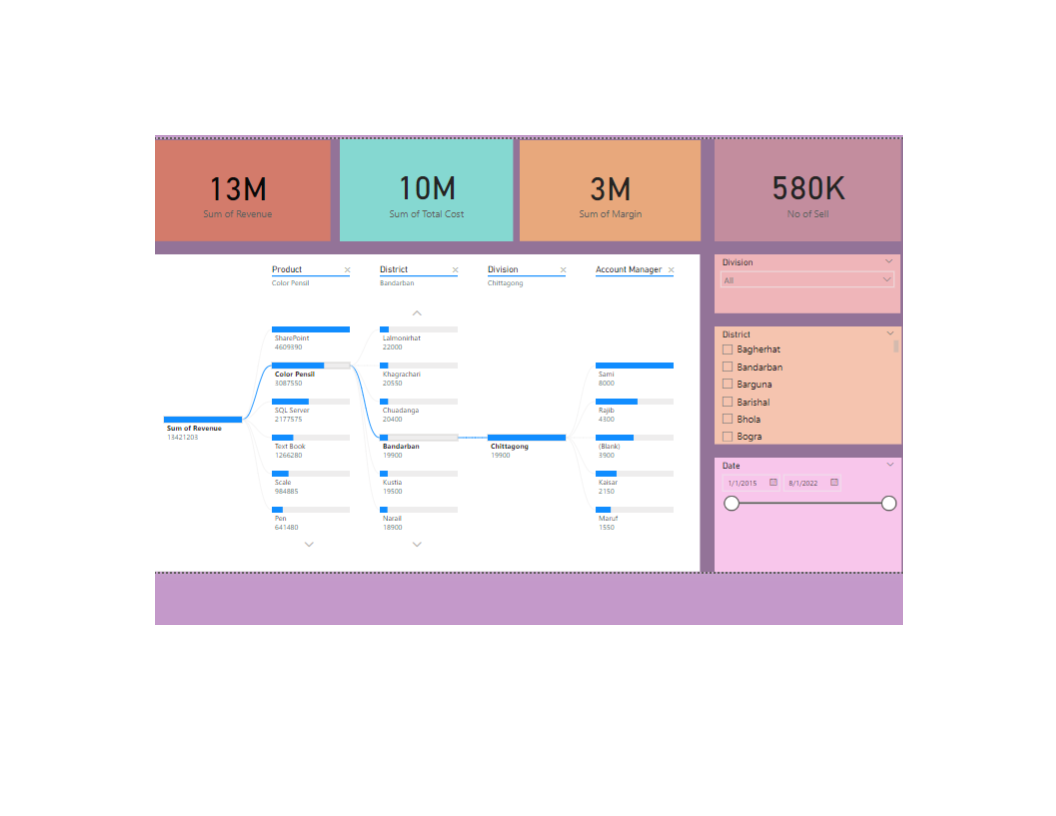

The page's visual inventory and layout, read from the dashboard file:
{"tool":"powerbi","page":{"name":"Page 2","canvas":[1280,720],"ordinal":1},"visuals":[{"type":"card","fields":{"Values":["Data.Revenue"]},"box":[3.4,1.7,305.7,168],"z":0},{"type":"card","fields":{"Values":["Data.Total Cost"]},"box":[324.2,0,288.9,169.7],"z":1000},{"type":"card","fields":{"Values":["Data.Margin"]},"box":[624.9,1.7,302.4,168],"z":2000},{"type":"card","fields":{"Values":["Data.Qty"]},"box":[950.8,0,310.8,169.7],"z":3000},{"type":"slicer","fields":{"Values":["Postal.Division"]},"box":[950,192,310,98],"z":7000},{"type":"slicer","fields":{"Values":["Postal.District"]},"box":[950,312,312,196],"z":8000},{"type":"decompositionTreeVisual","fields":{"ExplainBy":["Data.Product","Postal.District","Postal.Division","Customer.Account Manager"],"Analyze":["Data.Revenue"]},"box":[2,192,924,528],"z":8001},{"type":"slicer","fields":{"Values":["Data.Date"]},"box":[950,530,312,190],"z":8002}]}

Visuals, with their boxes on the page's 1280x720 design canvas (x1, y1, x2, y2). These are canvas units, not pixel positions in the 1056x816 screenshot, which may show the page scaled, cropped or inside an application window:
card - Data.Revenue: (left=3, top=2, right=309, bottom=170)
card - Data.Total Cost: (left=324, top=0, right=613, bottom=170)
card - Data.Margin: (left=625, top=2, right=927, bottom=170)
card - Data.Qty: (left=951, top=0, right=1262, bottom=170)
slicer - Postal.Division: (left=950, top=192, right=1260, bottom=290)
slicer - Postal.District: (left=950, top=312, right=1262, bottom=508)
decompositionTreeVisual - Data.Product x Postal.District: (left=2, top=192, right=926, bottom=720)
slicer - Data.Date: (left=950, top=530, right=1262, bottom=720)
